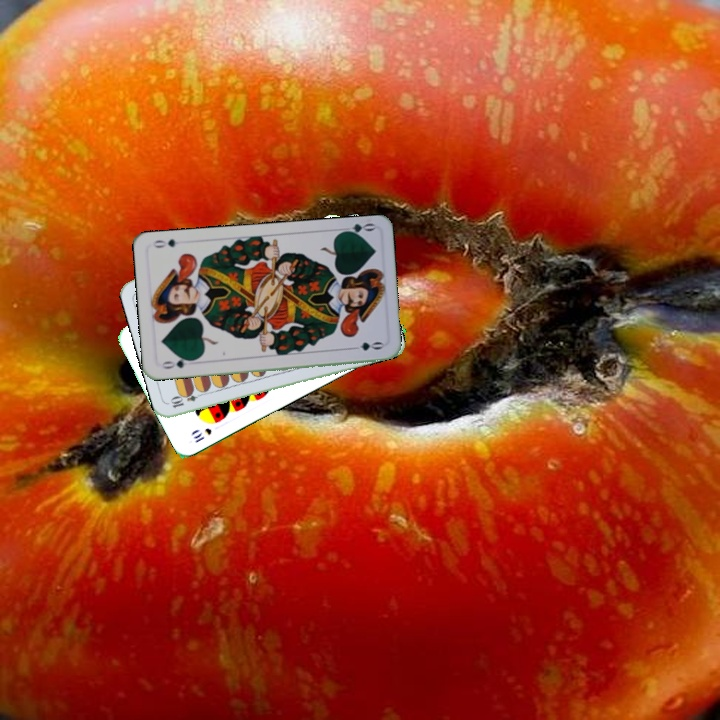E10: (167, 388, 207, 410)
GO: (336, 219, 376, 239), (157, 354, 197, 371)
S10: (190, 424, 214, 445)
